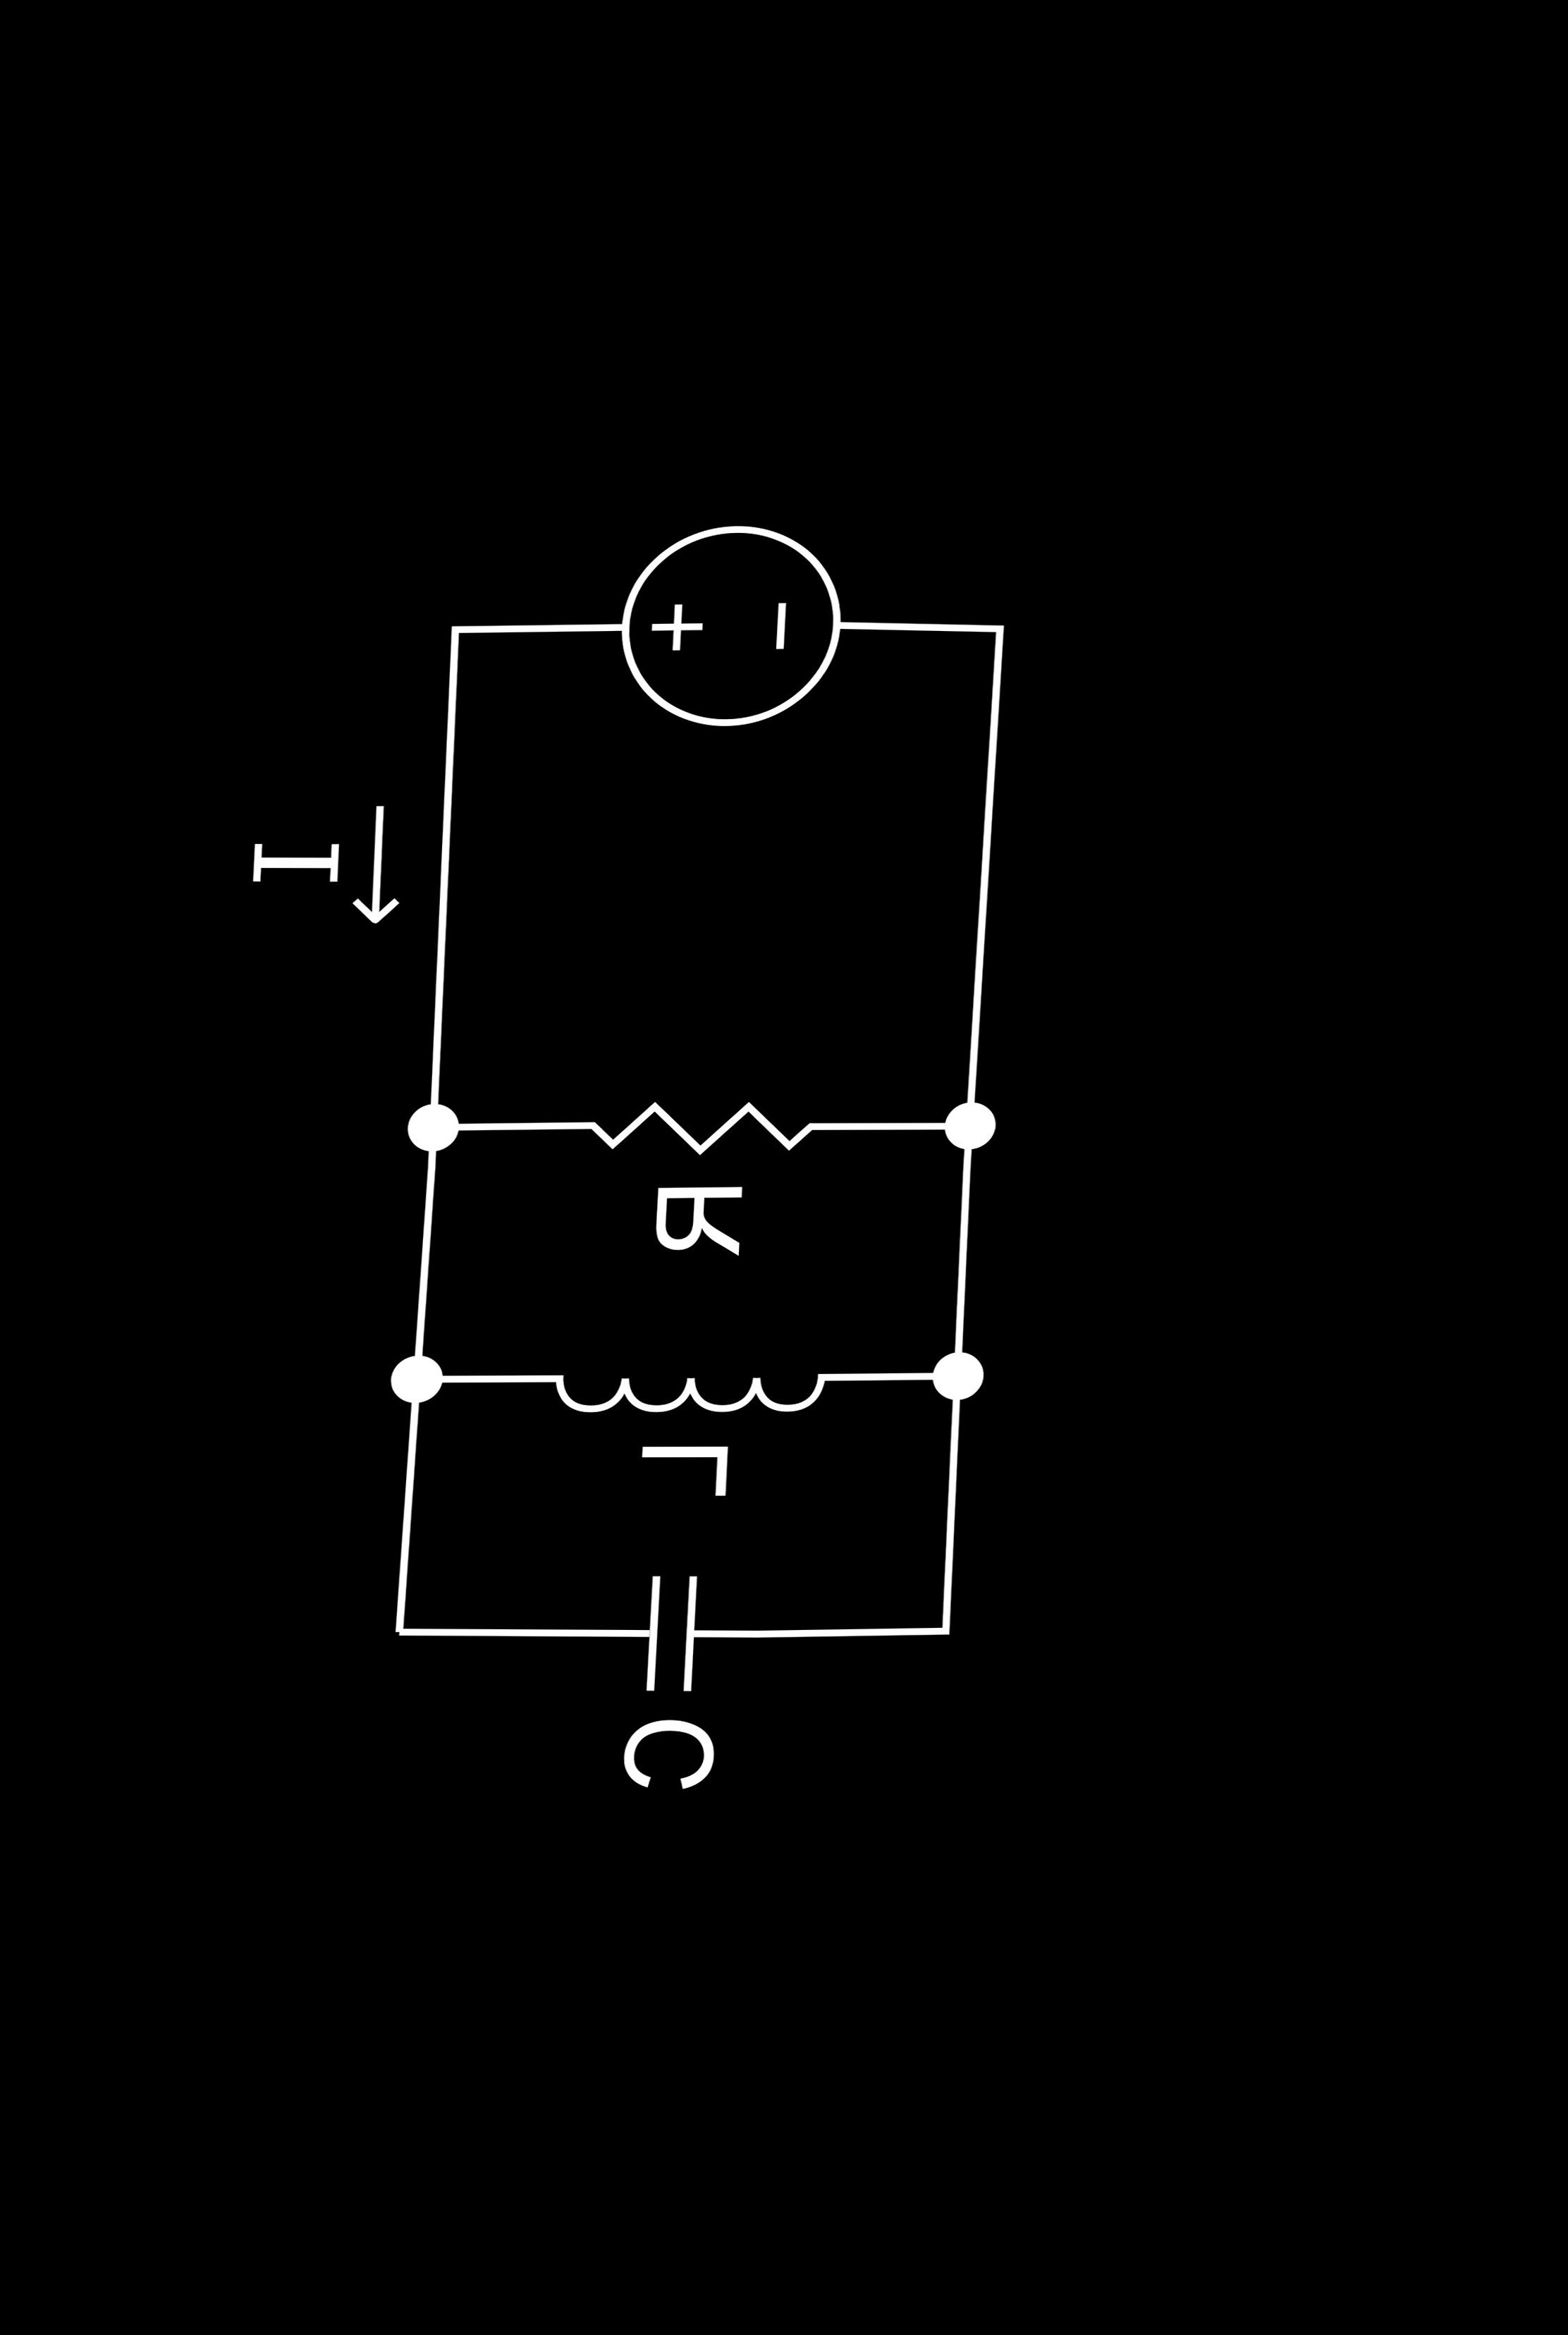Battery: (562, 469, 922, 785)
